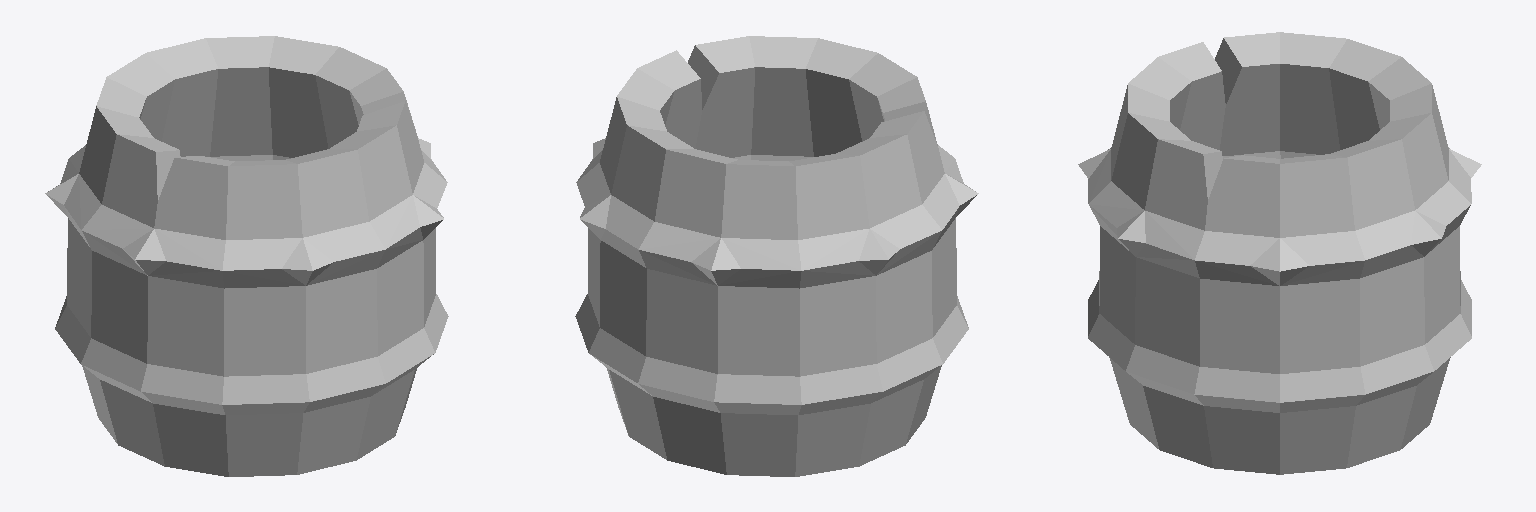
Rendered from barrel.obj.
3 renders of one model, left to right at view 1: azimuth 30°, elevation 25°; view 2: azimuth 150°, elevation 25°; view 3: azimuth 270°, elevation 25°, orthographic.
Visible parts, largest first — view 1: barrel; view 2: barrel; view 3: barrel.
Boxes of the visible parts, x1,y1,x2,y2 form: barrel: [45, 36, 448, 476]; barrel: [575, 36, 978, 476]; barrel: [1078, 32, 1481, 474].
Bounding box in the file's own units: 123 × 105 × 123.